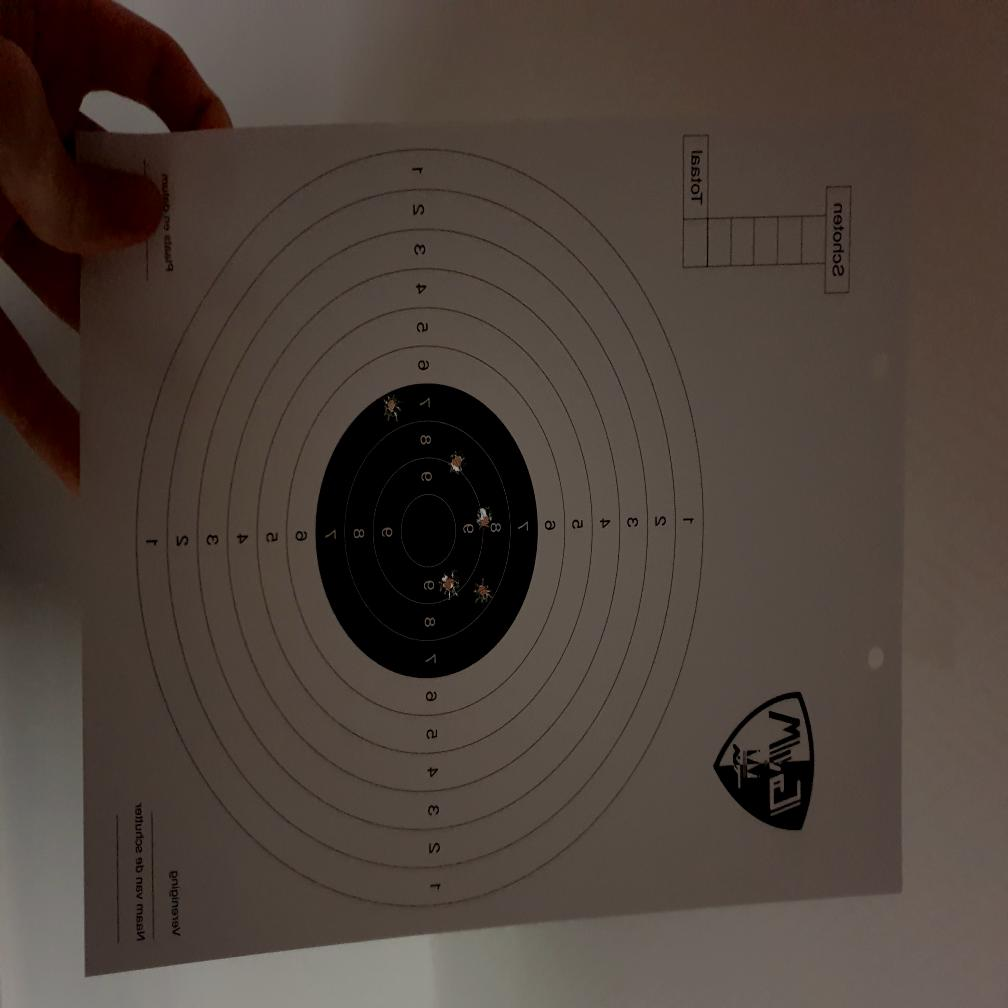7: (384, 394, 402, 422)
8: (473, 578, 493, 605)
9: (438, 569, 460, 600), (448, 450, 467, 475), (476, 506, 493, 531)
Target: (134, 145, 706, 917)
black_contour: (316, 382, 537, 679)
